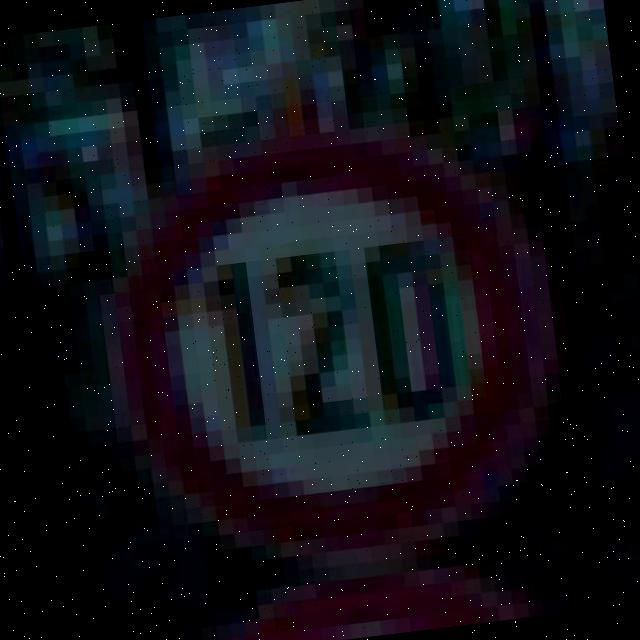Ograniczenie predkosci do 120: (102, 115, 562, 580)
